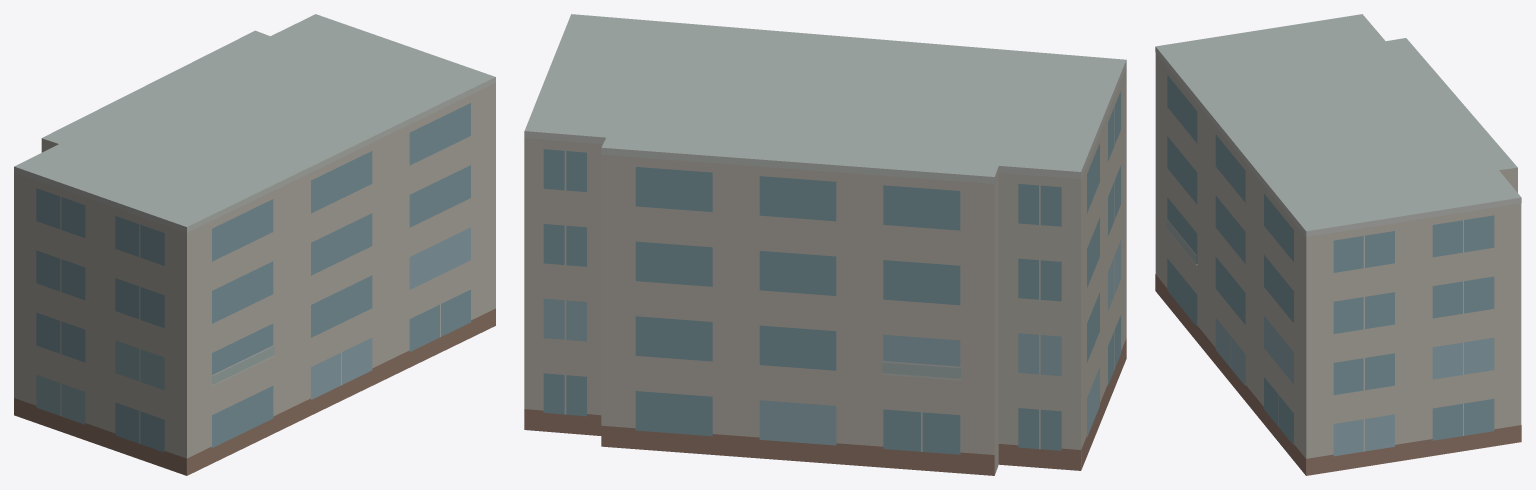
The model's file is survey-upis-32949939.glb.
3 views of the same model, side by side, from view 1: azimuth 30°, elevation 25°; view 2: azimuth 150°, elevation 25°; view 3: azimuth 270°, elevation 25° (orthographic). The views are drawn at different scales.
Visible parts, largest first — view 1: survey-upis-32949939.tmp; view 2: survey-upis-32949939.tmp; view 3: survey-upis-32949939.tmp.
Part boxes in pixels (x1,y1,x2,y2): survey-upis-32949939.tmp: [14, 14, 495, 475]; survey-upis-32949939.tmp: [524, 14, 1126, 475]; survey-upis-32949939.tmp: [1155, 14, 1521, 475].
Bounding box in the file's own units: 19.83 × 10.4 × 14.12.
